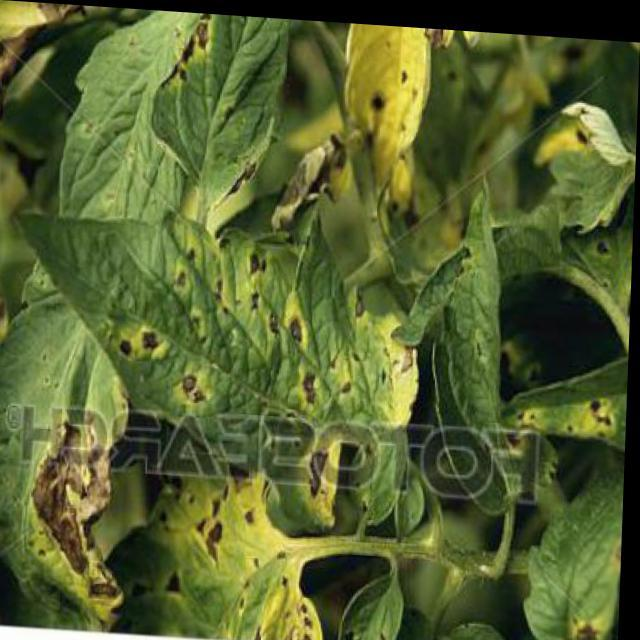Tomato Early blight leaf: (24, 204, 437, 446), (120, 440, 320, 636), (0, 337, 125, 632), (518, 452, 627, 639), (349, 18, 489, 160)
